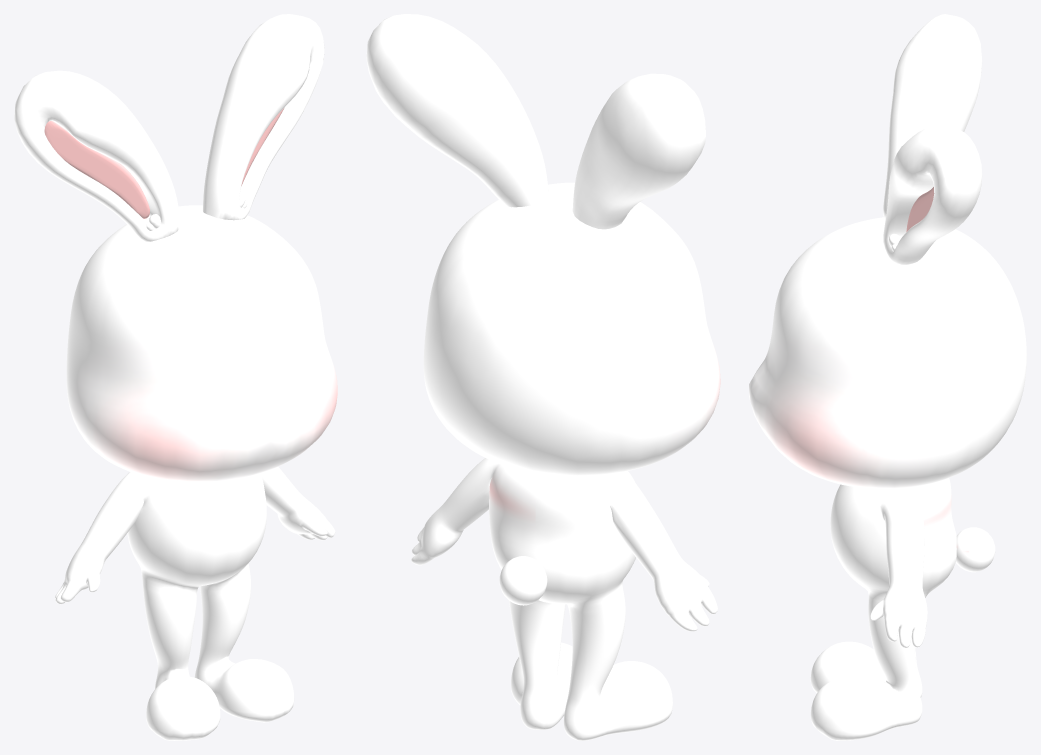
File: animation_met.gltf
3 renders of one model, left to right at view 1: azimuth 30°, elevation 25°; view 2: azimuth 150°, elevation 25°; view 3: azimuth 270°, elevation 25°, orthographic. The views are drawn at different scales.
Parts seen in each view (by area): view 1: POSED_BODY_FIN2_1-lambert_rabbit, POSED_BODY_FIN2_1-lambert_innerear; view 2: POSED_BODY_FIN2_1-lambert_rabbit; view 3: POSED_BODY_FIN2_1-lambert_rabbit, POSED_BODY_FIN2_1-lambert_innerear.
Part boxes in pixels (x1,y1,x2,y2): POSED_BODY_FIN2_1-lambert_rabbit: [14, 14, 337, 740]; POSED_BODY_FIN2_1-lambert_innerear: [44, 108, 284, 218]; POSED_BODY_FIN2_1-lambert_rabbit: [366, 14, 720, 740]; POSED_BODY_FIN2_1-lambert_rabbit: [749, 14, 1026, 740]; POSED_BODY_FIN2_1-lambert_innerear: [906, 187, 934, 231].
Size of the model in its own units: 0.0817 by 0.1624 by 0.0643.
2 materials, 1 textured.
